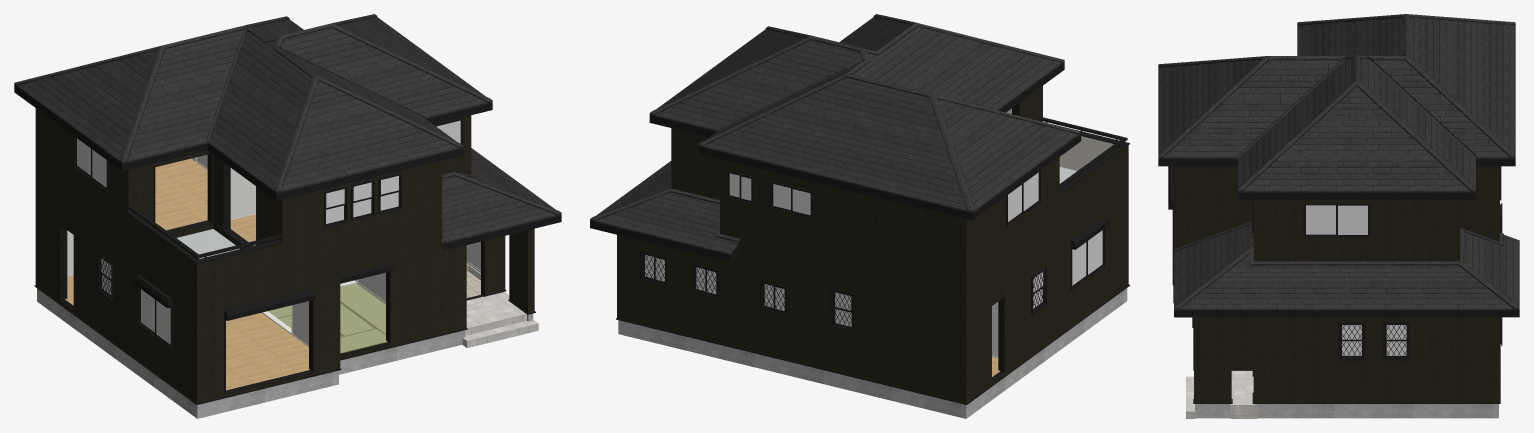
Rendered from SM_JapaneseModern_1.fbx.
The picture shows the model from 3 angles, left to right: view 1: azimuth 30°, elevation 25°; view 2: azimuth 150°, elevation 25°; view 3: azimuth 270°, elevation 25°; orthographic projection.
Visible parts, largest first — view 1: SM_JapaneseModern_1.002, SM_JapaneseModern_1.004, SM_JapaneseModern_1.013, SM_JapaneseModern_1.019, SM_JapaneseModern_1.016, SM_JapaneseModern_1.007, SM_JapaneseModern_1.001, SM_JapaneseModern_1.018, SM_JapaneseModern_1.008, SM_JapaneseModern_1.011, SM_JapaneseModern_1, SM_JapaneseModern_1.005; view 2: SM_JapaneseModern_1.002, SM_JapaneseModern_1.004, SM_JapaneseModern_1.013, SM_JapaneseModern_1.007, SM_JapaneseModern_1.016, SM_JapaneseModern_1.001, SM_JapaneseModern_1.009; view 3: SM_JapaneseModern_1.004, SM_JapaneseModern_1.002, SM_JapaneseModern_1.013, SM_JapaneseModern_1.007, SM_JapaneseModern_1.001, SM_JapaneseModern_1.016, SM_JapaneseModern_1.011.
Part boxes in pixels (x1,y1,x2,y2): SM_JapaneseModern_1.002: (35, 108, 534, 403); SM_JapaneseModern_1.004: (14, 14, 561, 243); SM_JapaneseModern_1.013: (14, 85, 561, 404); SM_JapaneseModern_1.019: (65, 158, 309, 390); SM_JapaneseModern_1.016: (61, 117, 484, 394); SM_JapaneseModern_1.007: (37, 288, 533, 418); SM_JapaneseModern_1.001: (77, 120, 460, 344); SM_JapaneseModern_1.018: (67, 154, 480, 345); SM_JapaneseModern_1.008: (268, 283, 386, 352); SM_JapaneseModern_1.011: (462, 292, 538, 347); SM_JapaneseModern_1: (177, 229, 239, 258); SM_JapaneseModern_1.005: (67, 157, 480, 346); SM_JapaneseModern_1.002: (617, 86, 1128, 403); SM_JapaneseModern_1.004: (590, 14, 1081, 255); SM_JapaneseModern_1.013: (590, 62, 1129, 404); SM_JapaneseModern_1.007: (618, 288, 1127, 418); SM_JapaneseModern_1.016: (640, 103, 1127, 381); SM_JapaneseModern_1.001: (645, 172, 1102, 326); SM_JapaneseModern_1.009: (1059, 136, 1113, 170); SM_JapaneseModern_1.004: (1158, 14, 1519, 310); SM_JapaneseModern_1.002: (1174, 166, 1499, 402); SM_JapaneseModern_1.013: (1158, 159, 1519, 403); SM_JapaneseModern_1.007: (1175, 317, 1498, 418); SM_JapaneseModern_1.001: (1306, 205, 1406, 355); SM_JapaneseModern_1.016: (1172, 166, 1502, 360); SM_JapaneseModern_1.011: (1186, 371, 1257, 418).
Bounding box in the file's own units: 11.1 × 7.73 × 9.1.
24 materials, 22 textured.
